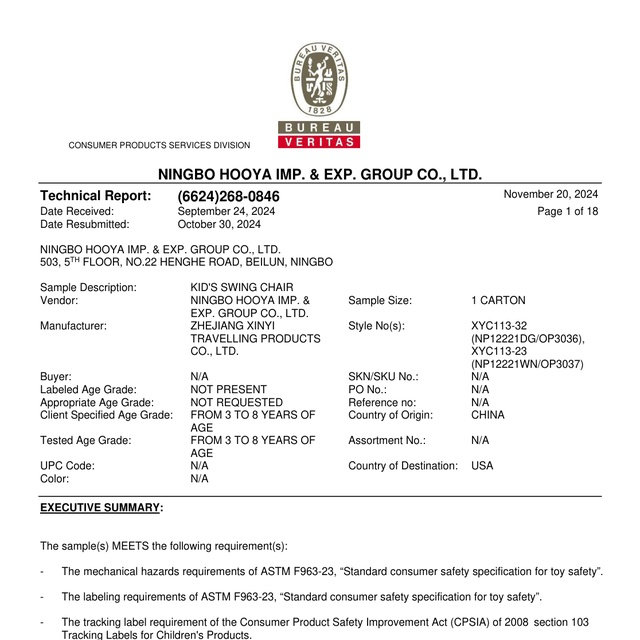bureau_veritas: (276, 42, 364, 148)
